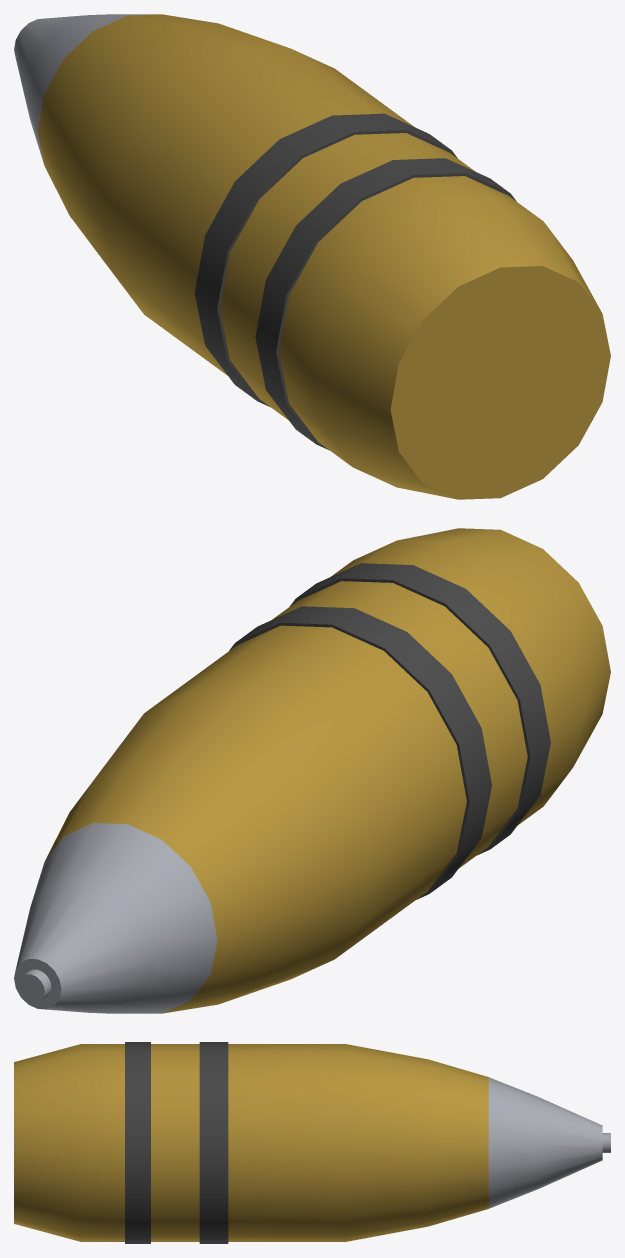
File: he_bullet_88.fbx
3 renders of one model, top to bottom at view 1: azimuth 30°, elevation 25°; view 2: azimuth 150°, elevation 25°; view 3: azimuth 270°, elevation 25°, orthographic. The views are drawn at different scales.
Parts seen in each view (by area): view 1: Cylinder; view 2: Cylinder; view 3: Cylinder.
Part boxes in pixels (box(x1,y1,x2,y2)): Cylinder: box(14, 14, 610, 499); Cylinder: box(14, 528, 610, 1013); Cylinder: box(14, 1042, 610, 1243).
Bounding box in the file's own units: 79.91 × 79.91 × 236.
